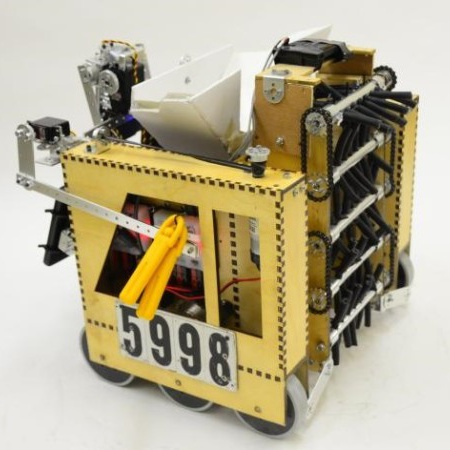robot: (8, 19, 426, 443)
